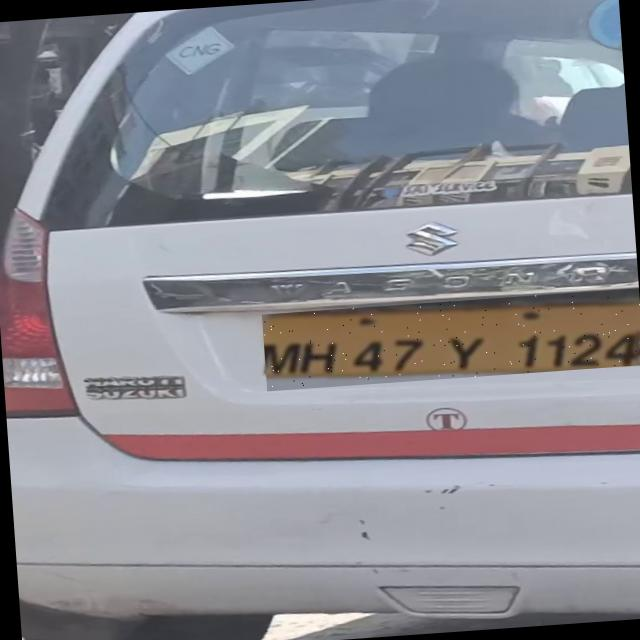Plate: (262, 289, 640, 392)
